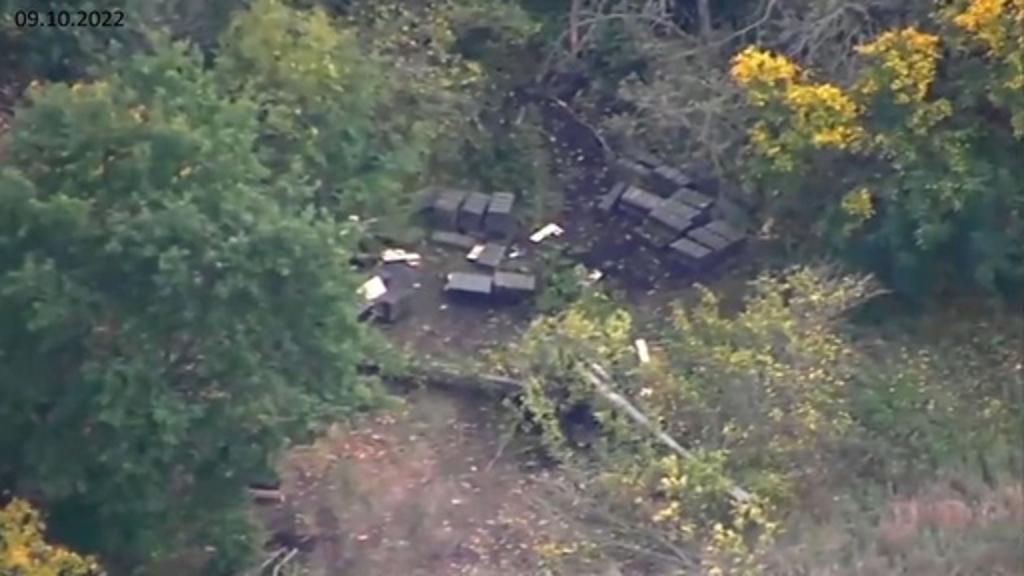ART: (362, 312, 776, 520)
